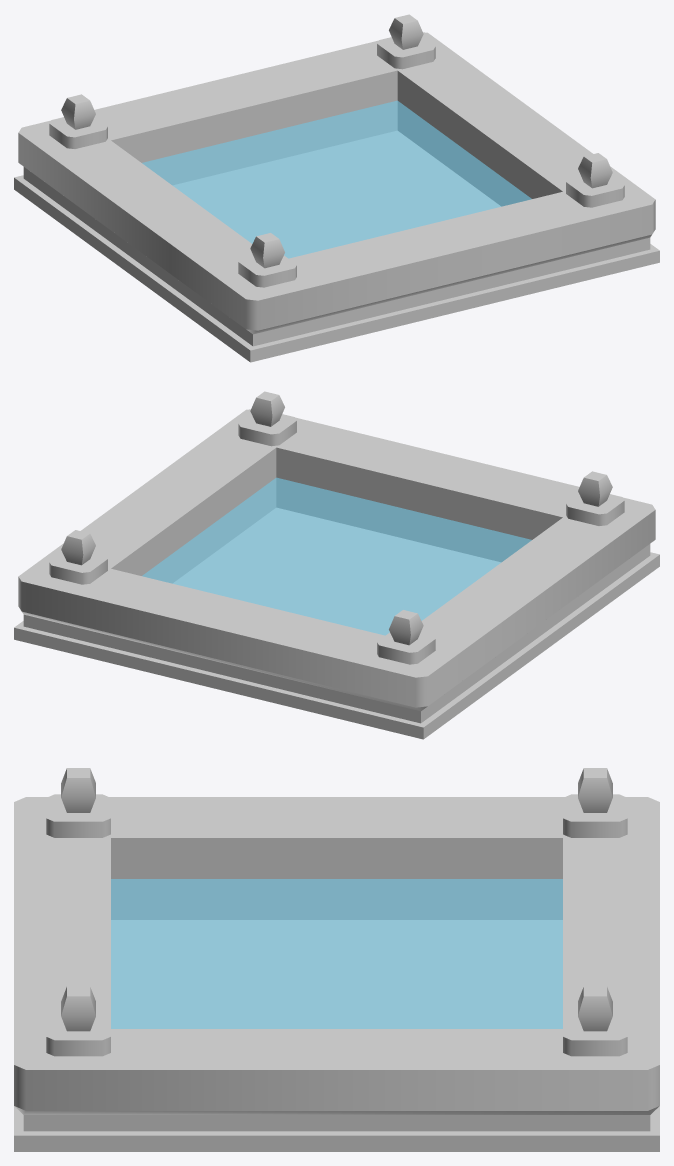
The model's file is fountain-square.glb.
3 renders of one model, top to bottom at view 1: azimuth 30°, elevation 25°; view 2: azimuth 150°, elevation 25°; view 3: azimuth 270°, elevation 25°, orthographic. The views are drawn at different scales.
Visible parts, largest first — view 1: fountain-square, (%ignore); view 2: fountain-square, (%ignore); view 3: fountain-square, (%ignore).
Part boxes in pixels (box(x1,y1,x2,y2)): fountain-square: box(14, 14, 659, 362); (%ignore): box(142, 100, 531, 258); fountain-square: box(14, 391, 659, 739); (%ignore): box(142, 477, 531, 635); fountain-square: box(14, 768, 659, 1151); (%ignore): box(111, 879, 562, 1028).
Bounding box in the file's own units: 2 × 0.4552 × 2.
